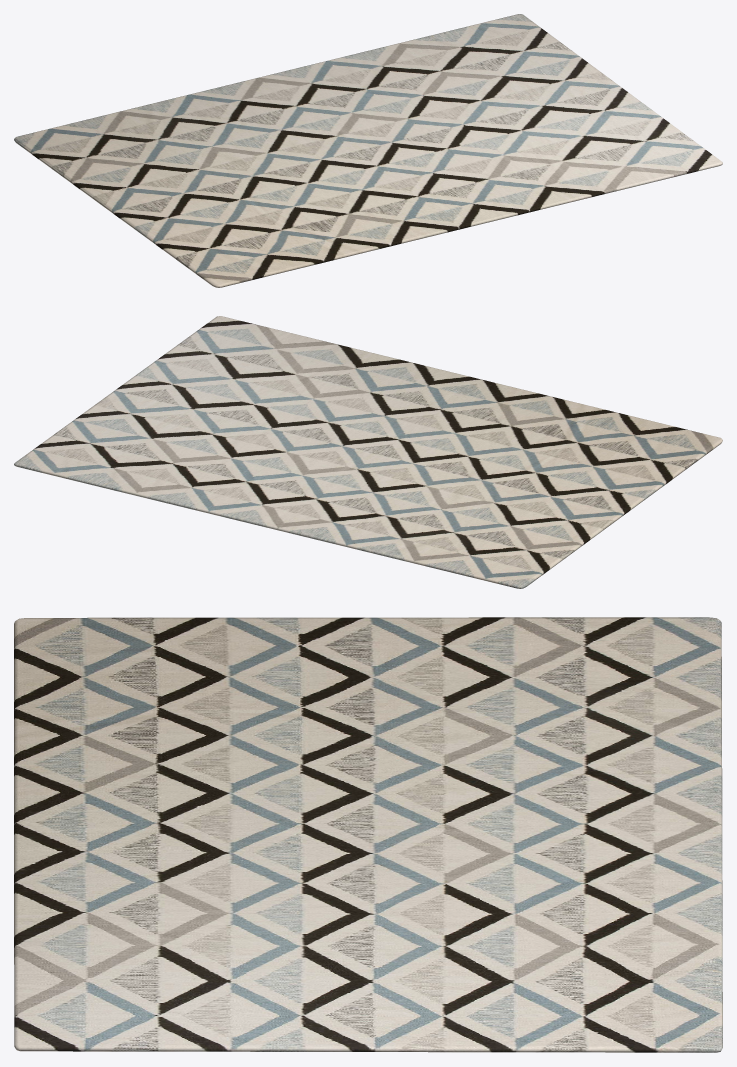
The model's file is rug DEC.fbx.
3 renders of one model, top to bottom at view 1: azimuth 30°, elevation 25°; view 2: azimuth 150°, elevation 25°; view 3: azimuth 270°, elevation 25°, orthographic. The views are drawn at different scales.
Visible parts, largest first — view 1: Akia_Hand_Woven_Rug_160_X_230cm; view 2: Akia_Hand_Woven_Rug_160_X_230cm; view 3: Akia_Hand_Woven_Rug_160_X_230cm.
Part boxes in pixels (x1,y1,x2,y2): Akia_Hand_Woven_Rug_160_X_230cm: (14, 14, 722, 287); Akia_Hand_Woven_Rug_160_X_230cm: (14, 316, 722, 588); Akia_Hand_Woven_Rug_160_X_230cm: (14, 617, 722, 1052).
Size of the model in its own units: 230 by 1.3 by 160.
